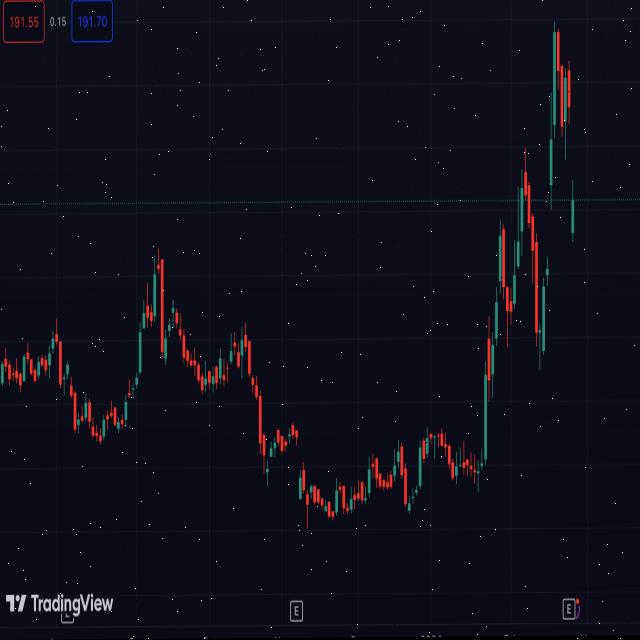Gap Down: (566, 59, 586, 266), (292, 416, 304, 518)
Gap Up: (543, 99, 559, 291)
